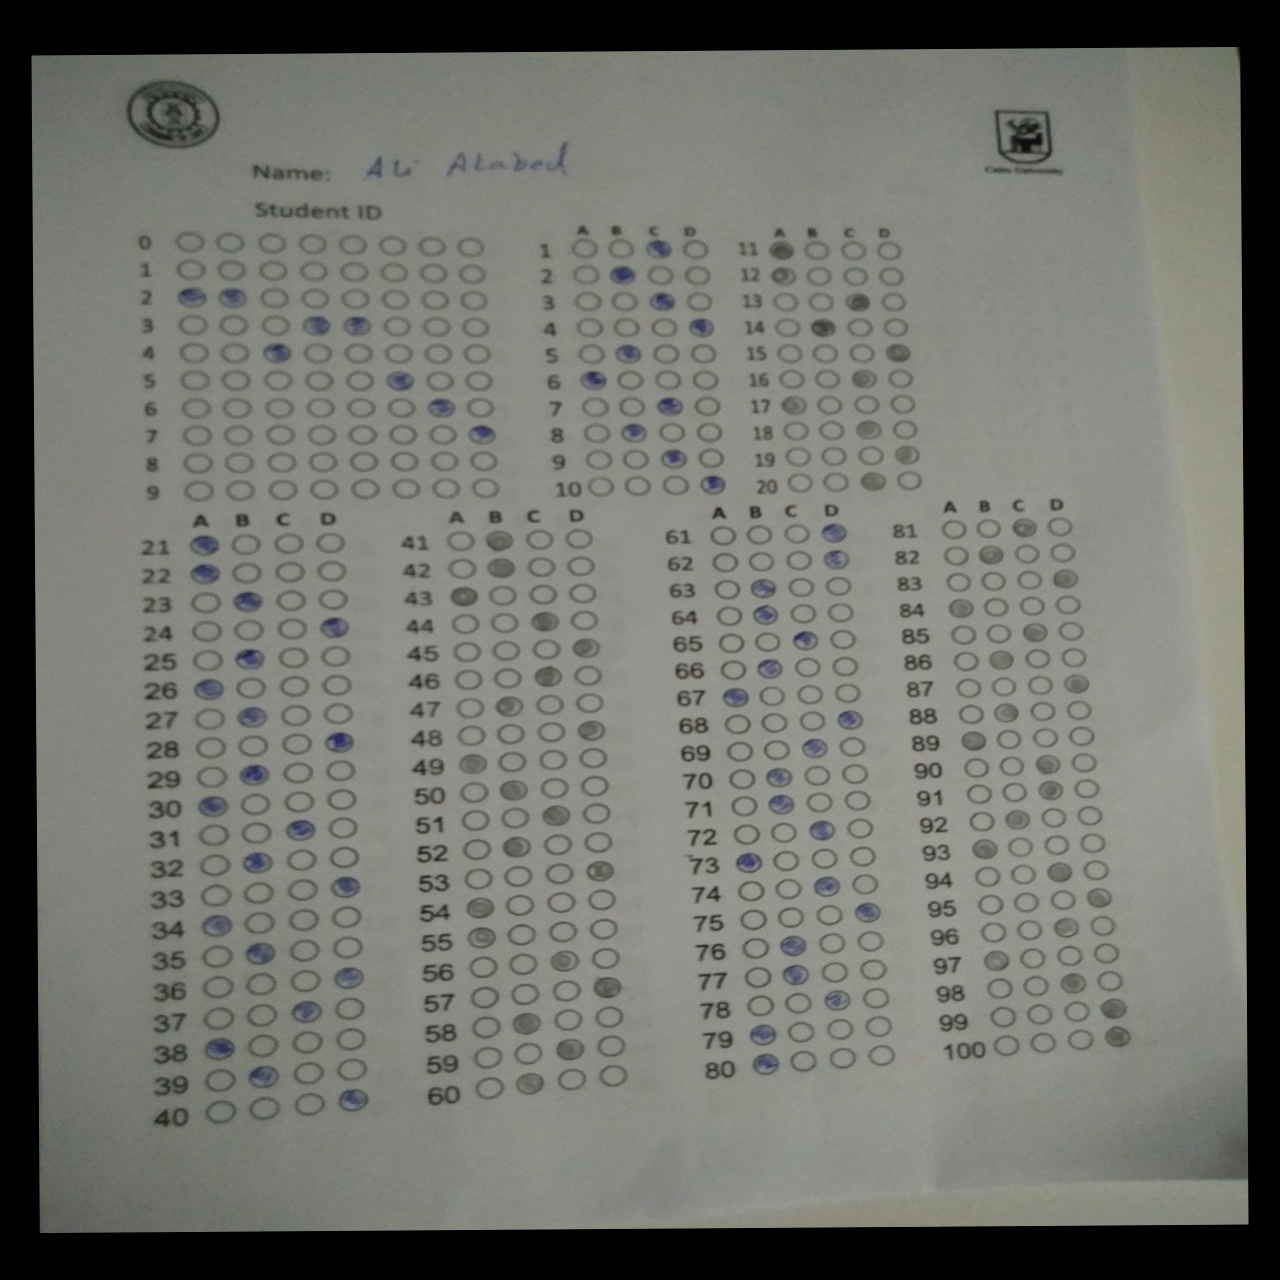not-c: (992, 726, 1026, 753), (535, 719, 568, 744), (472, 1046, 506, 1071), (554, 1065, 588, 1091), (247, 1094, 281, 1119), (292, 1060, 326, 1085), (334, 1026, 368, 1051), (846, 843, 880, 869), (1055, 618, 1089, 644), (799, 762, 835, 787), (501, 863, 533, 888), (471, 1074, 504, 1099), (469, 983, 502, 1009), (459, 808, 492, 833), (536, 774, 568, 799), (328, 815, 361, 840), (785, 1019, 818, 1044), (863, 1014, 896, 1040), (552, 1006, 585, 1032), (470, 1014, 503, 1040), (204, 1067, 237, 1092), (244, 1032, 277, 1057), (962, 781, 995, 806), (803, 789, 836, 815), (801, 237, 835, 261), (568, 234, 602, 259), (469, 475, 503, 499), (422, 340, 456, 365), (459, 865, 493, 890), (593, 1032, 627, 1056), (550, 978, 584, 1002), (467, 954, 501, 979), (331, 934, 365, 959), (544, 890, 578, 914), (587, 946, 621, 971), (586, 915, 620, 940), (576, 745, 610, 770), (241, 910, 275, 934), (328, 904, 362, 928), (284, 847, 318, 872), (197, 823, 231, 847), (824, 1017, 858, 1042), (787, 1048, 821, 1073), (738, 937, 772, 961), (292, 1091, 326, 1116), (290, 1029, 324, 1054), (202, 1005, 236, 1029), (728, 821, 762, 845), (726, 794, 760, 818), (1058, 645, 1092, 669), (1062, 697, 1096, 722), (994, 754, 1028, 778), (835, 734, 869, 758), (755, 683, 789, 708), (840, 788, 874, 812), (942, 570, 976, 594), (1051, 592, 1085, 617), (972, 516, 1006, 540), (839, 264, 874, 287), (876, 290, 911, 313), (529, 636, 564, 660), (939, 517, 974, 540), (542, 860, 577, 884), (1044, 539, 1080, 563), (680, 237, 713, 261), (177, 340, 210, 365), (321, 672, 354, 696), (706, 523, 738, 547), (445, 556, 478, 580), (459, 837, 492, 862), (592, 1005, 625, 1029), (504, 891, 537, 915), (505, 951, 538, 975), (243, 972, 275, 996), (288, 938, 321, 962), (200, 942, 233, 967), (844, 815, 877, 839), (499, 805, 532, 830), (583, 830, 615, 855), (580, 799, 613, 824), (536, 747, 568, 771), (577, 772, 610, 797), (493, 720, 526, 744), (286, 878, 319, 903), (199, 883, 232, 907), (328, 844, 361, 869), (240, 821, 273, 845), (325, 787, 358, 811), (282, 789, 315, 813), (237, 791, 270, 816), (864, 1042, 897, 1067), (826, 1046, 859, 1070), (512, 1041, 545, 1065), (597, 1062, 629, 1087), (334, 1056, 367, 1081), (204, 1098, 237, 1123), (332, 995, 365, 1020), (244, 1001, 277, 1026), (809, 845, 842, 870), (1022, 645, 1055, 669), (1024, 672, 1057, 696), (953, 675, 986, 700), (1027, 699, 1060, 723), (960, 755, 993, 779), (726, 765, 758, 790), (761, 736, 794, 761), (723, 738, 756, 763), (720, 712, 753, 736), (830, 680, 863, 704), (828, 653, 860, 678), (791, 653, 824, 678), (825, 626, 858, 651), (749, 629, 782, 654), (715, 629, 748, 654), (839, 761, 872, 785), (940, 542, 973, 566), (614, 368, 648, 392), (651, 368, 685, 392), (874, 264, 908, 287), (892, 470, 926, 493), (815, 418, 849, 442), (811, 367, 845, 390), (458, 315, 492, 339), (217, 314, 251, 338), (297, 259, 331, 282), (620, 474, 654, 497), (583, 475, 617, 498), (692, 420, 726, 443), (782, 470, 816, 493), (260, 368, 294, 392), (308, 477, 342, 501), (222, 451, 256, 475), (316, 645, 350, 668), (274, 617, 308, 640), (188, 590, 222, 613), (273, 560, 307, 584), (314, 531, 348, 554), (712, 604, 745, 627), (447, 611, 481, 634), (522, 527, 556, 551), (508, 981, 542, 1005), (503, 921, 537, 945), (200, 974, 234, 998), (585, 888, 619, 912), (456, 779, 490, 803), (542, 832, 576, 856), (495, 749, 529, 772), (572, 692, 606, 715), (452, 722, 486, 745), (452, 695, 486, 719), (286, 907, 320, 931), (241, 881, 275, 905), (324, 758, 358, 782), (195, 764, 229, 788), (949, 649, 983, 673), (954, 702, 988, 726), (1065, 723, 1099, 747), (795, 708, 829, 731), (794, 682, 828, 706), (716, 658, 750, 681), (978, 594, 1012, 618), (1014, 567, 1048, 591), (978, 568, 1012, 592), (1016, 594, 1050, 618), (1010, 542, 1044, 565), (1044, 515, 1078, 538), (704, 551, 740, 573), (649, 342, 682, 366), (812, 393, 845, 416), (776, 367, 809, 390), (808, 341, 840, 365), (257, 313, 290, 336), (258, 286, 291, 309), (335, 232, 368, 256), (295, 231, 328, 254), (620, 448, 653, 471), (579, 421, 612, 444), (301, 368, 334, 392), (349, 477, 382, 501), (390, 476, 423, 499), (381, 341, 414, 365), (301, 341, 334, 365), (190, 649, 223, 673), (347, 450, 380, 474), (191, 706, 224, 729), (452, 668, 485, 692), (488, 610, 520, 633), (485, 584, 518, 607), (279, 674, 312, 697), (288, 968, 321, 992), (547, 919, 580, 942), (199, 853, 232, 877), (281, 760, 314, 783), (279, 731, 312, 755), (964, 810, 996, 833), (856, 956, 888, 980), (985, 1005, 1017, 1028), (946, 622, 979, 646), (987, 674, 1020, 697), (1029, 726, 1062, 749), (1068, 749, 1101, 772), (757, 710, 790, 734), (768, 819, 801, 843), (982, 620, 1015, 644), (574, 342, 608, 365), (685, 342, 719, 365), (570, 290, 604, 312), (767, 290, 801, 312), (644, 263, 678, 285), (568, 263, 602, 285), (872, 239, 906, 261), (836, 238, 870, 260), (779, 445, 813, 468), (779, 418, 813, 441), (772, 342, 806, 365), (846, 341, 880, 363), (843, 315, 877, 338), (879, 315, 913, 338), (689, 395, 723, 417), (414, 263, 448, 285), (376, 261, 410, 284), (379, 288, 413, 311), (176, 314, 210, 336), (338, 260, 372, 282), (256, 259, 290, 281), (256, 231, 290, 253), (215, 258, 248, 280), (654, 421, 688, 443), (694, 447, 728, 469), (182, 479, 216, 502), (452, 234, 486, 257), (178, 396, 212, 418), (219, 396, 253, 418), (304, 396, 338, 418), (342, 369, 376, 392), (384, 396, 418, 418), (427, 423, 461, 445), (427, 450, 461, 472), (467, 450, 501, 472), (464, 396, 498, 418), (459, 341, 493, 363), (341, 340, 375, 362), (275, 646, 309, 668), (190, 620, 224, 642), (273, 588, 307, 611), (231, 561, 265, 584), (229, 532, 263, 554), (443, 530, 477, 552), (266, 451, 300, 474), (388, 450, 422, 472), (222, 423, 256, 445), (181, 423, 215, 445), (263, 423, 297, 445), (234, 734, 268, 756), (193, 736, 227, 758), (321, 702, 355, 724), (489, 639, 523, 661), (448, 640, 482, 662), (710, 578, 744, 600), (745, 550, 779, 572), (971, 865, 1005, 887), (417, 288, 452, 309), (461, 370, 496, 392), (222, 479, 257, 501), (817, 960, 849, 983), (1017, 946, 1049, 969), (1061, 999, 1092, 1022), (172, 231, 205, 253), (175, 258, 207, 280), (414, 234, 447, 257), (687, 369, 720, 392), (573, 316, 606, 339), (683, 290, 716, 312), (608, 290, 641, 312), (804, 264, 837, 286), (682, 263, 715, 285), (604, 237, 636, 259), (855, 444, 887, 467), (817, 444, 850, 467), (850, 392, 883, 414), (888, 392, 921, 414), (884, 366, 917, 388), (804, 291, 837, 313), (615, 395, 648, 417), (578, 395, 611, 417), (375, 233, 408, 256), (298, 286, 331, 308), (457, 290, 490, 312), (420, 315, 452, 338), (379, 314, 411, 336), (211, 231, 244, 253), (660, 474, 693, 496), (583, 448, 615, 470), (821, 470, 853, 492), (305, 423, 338, 445), (347, 423, 380, 445), (386, 422, 418, 444), (345, 396, 377, 418), (219, 369, 252, 392), (177, 369, 210, 392), (430, 477, 463, 499), (424, 369, 457, 392), (216, 341, 248, 363), (231, 618, 264, 640), (315, 560, 348, 583), (272, 532, 305, 554), (266, 478, 299, 501), (306, 451, 339, 474), (535, 693, 567, 715), (277, 703, 309, 726), (491, 667, 524, 689), (825, 601, 858, 624), (785, 601, 818, 624), (570, 663, 602, 686), (566, 581, 599, 604), (783, 576, 816, 598), (782, 549, 815, 571), (779, 520, 812, 543), (742, 522, 775, 544), (565, 554, 598, 577), (855, 930, 887, 952), (813, 903, 846, 925), (815, 931, 847, 953), (999, 781, 1032, 803), (1039, 806, 1071, 829), (1005, 835, 1037, 857), (1040, 835, 1073, 857), (847, 873, 880, 896), (1006, 863, 1039, 885), (742, 965, 775, 987), (744, 994, 777, 1016), (978, 920, 1010, 942), (992, 1034, 1024, 1056), (608, 316, 642, 338), (888, 418, 922, 440), (769, 316, 803, 338), (452, 263, 486, 284), (338, 288, 372, 309), (263, 397, 297, 418), (182, 452, 216, 474), (232, 678, 266, 699), (522, 554, 556, 576), (771, 849, 803, 871), (1070, 777, 1102, 799), (1075, 804, 1107, 826), (771, 877, 803, 899), (775, 906, 806, 928), (1077, 832, 1109, 855), (734, 879, 765, 901), (1080, 859, 1111, 881), (782, 990, 813, 1013), (860, 987, 892, 1009), (975, 893, 1007, 915), (1012, 890, 1043, 912), (1049, 888, 1081, 911), (1089, 914, 1121, 937), (1015, 919, 1047, 941), (1055, 944, 1087, 966), (1092, 941, 1124, 964), (1020, 974, 1051, 996), (1065, 1029, 1097, 1051), (647, 316, 680, 338), (316, 588, 349, 610), (567, 610, 600, 631), (526, 583, 559, 604), (821, 574, 853, 595), (561, 527, 594, 549), (736, 908, 769, 930), (985, 978, 1017, 999), (1024, 1003, 1057, 1024), (1095, 971, 1126, 992), (1027, 1032, 1058, 1053)
taken-c: (539, 802, 574, 828), (456, 751, 492, 776), (529, 663, 565, 688), (327, 874, 363, 899), (239, 850, 275, 874), (464, 925, 501, 949), (508, 1010, 544, 1035), (745, 1051, 782, 1076), (334, 1088, 370, 1112), (331, 965, 367, 989), (198, 912, 234, 937), (501, 835, 537, 859), (973, 542, 1009, 566), (496, 778, 533, 802), (588, 975, 626, 999), (493, 693, 529, 717), (193, 795, 229, 819), (731, 850, 767, 874), (290, 999, 325, 1023), (1058, 670, 1094, 695), (942, 594, 978, 619), (765, 792, 801, 817), (583, 857, 618, 881), (573, 717, 610, 741), (236, 763, 272, 787), (321, 730, 358, 754), (189, 678, 225, 701), (461, 896, 497, 919), (850, 900, 886, 924), (776, 933, 812, 956), (550, 1037, 586, 1061), (202, 1037, 238, 1061), (760, 765, 796, 789), (797, 736, 833, 760), (810, 873, 846, 897), (1006, 515, 1042, 538), (1017, 619, 1051, 644), (281, 818, 316, 842), (547, 948, 583, 972), (745, 1023, 781, 1047), (778, 964, 813, 987), (819, 988, 855, 1012), (243, 941, 278, 965), (806, 818, 842, 842), (955, 729, 990, 753), (1002, 806, 1034, 832), (511, 1071, 547, 1094), (747, 576, 779, 600), (980, 947, 1013, 972), (1032, 751, 1065, 775), (234, 704, 270, 727), (245, 1065, 280, 1088), (340, 313, 372, 338), (1050, 915, 1082, 940), (969, 837, 1001, 862), (720, 685, 753, 708), (318, 615, 350, 639), (448, 584, 481, 607), (482, 529, 515, 552), (696, 474, 728, 497), (216, 286, 247, 309), (619, 422, 651, 445), (832, 708, 864, 731), (790, 629, 822, 653), (821, 547, 852, 571), (817, 520, 849, 544), (233, 647, 265, 670), (232, 588, 264, 612), (484, 554, 516, 578), (1098, 995, 1130, 1019), (1057, 971, 1089, 994), (1043, 860, 1075, 884), (1102, 1024, 1133, 1048), (570, 636, 602, 659), (754, 658, 787, 680), (749, 604, 782, 626), (529, 610, 561, 632), (188, 561, 220, 584), (188, 533, 220, 556), (1049, 566, 1082, 588), (261, 341, 292, 365), (177, 286, 207, 309), (1083, 886, 1114, 910), (1035, 778, 1065, 802), (425, 396, 457, 418), (383, 368, 413, 392), (301, 314, 331, 338), (467, 423, 496, 445), (881, 342, 912, 363), (612, 343, 642, 365), (842, 291, 872, 312), (606, 264, 636, 285), (855, 417, 883, 440), (769, 265, 798, 286), (655, 396, 685, 417), (858, 470, 887, 491), (892, 443, 921, 464), (849, 367, 878, 388), (808, 316, 837, 338), (647, 290, 676, 311), (767, 240, 797, 260), (779, 394, 808, 415), (687, 316, 715, 338), (579, 370, 608, 390), (644, 238, 673, 258)
